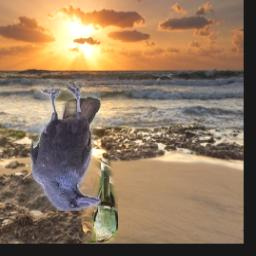Crow: (30, 79, 101, 211)
Cuckoo: (88, 158, 119, 243)
